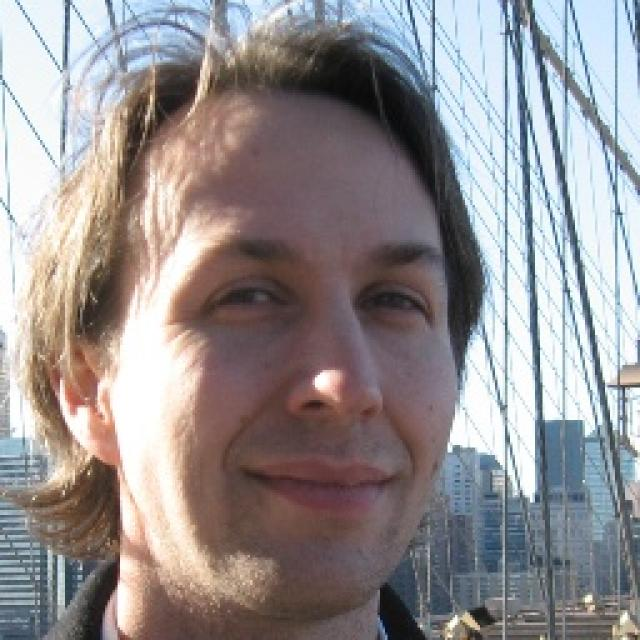earlobe: (78, 417, 119, 468)
eye: (217, 281, 283, 315), (361, 284, 430, 314)
nose: (288, 400, 382, 443)
wholeear: (45, 333, 118, 468)
